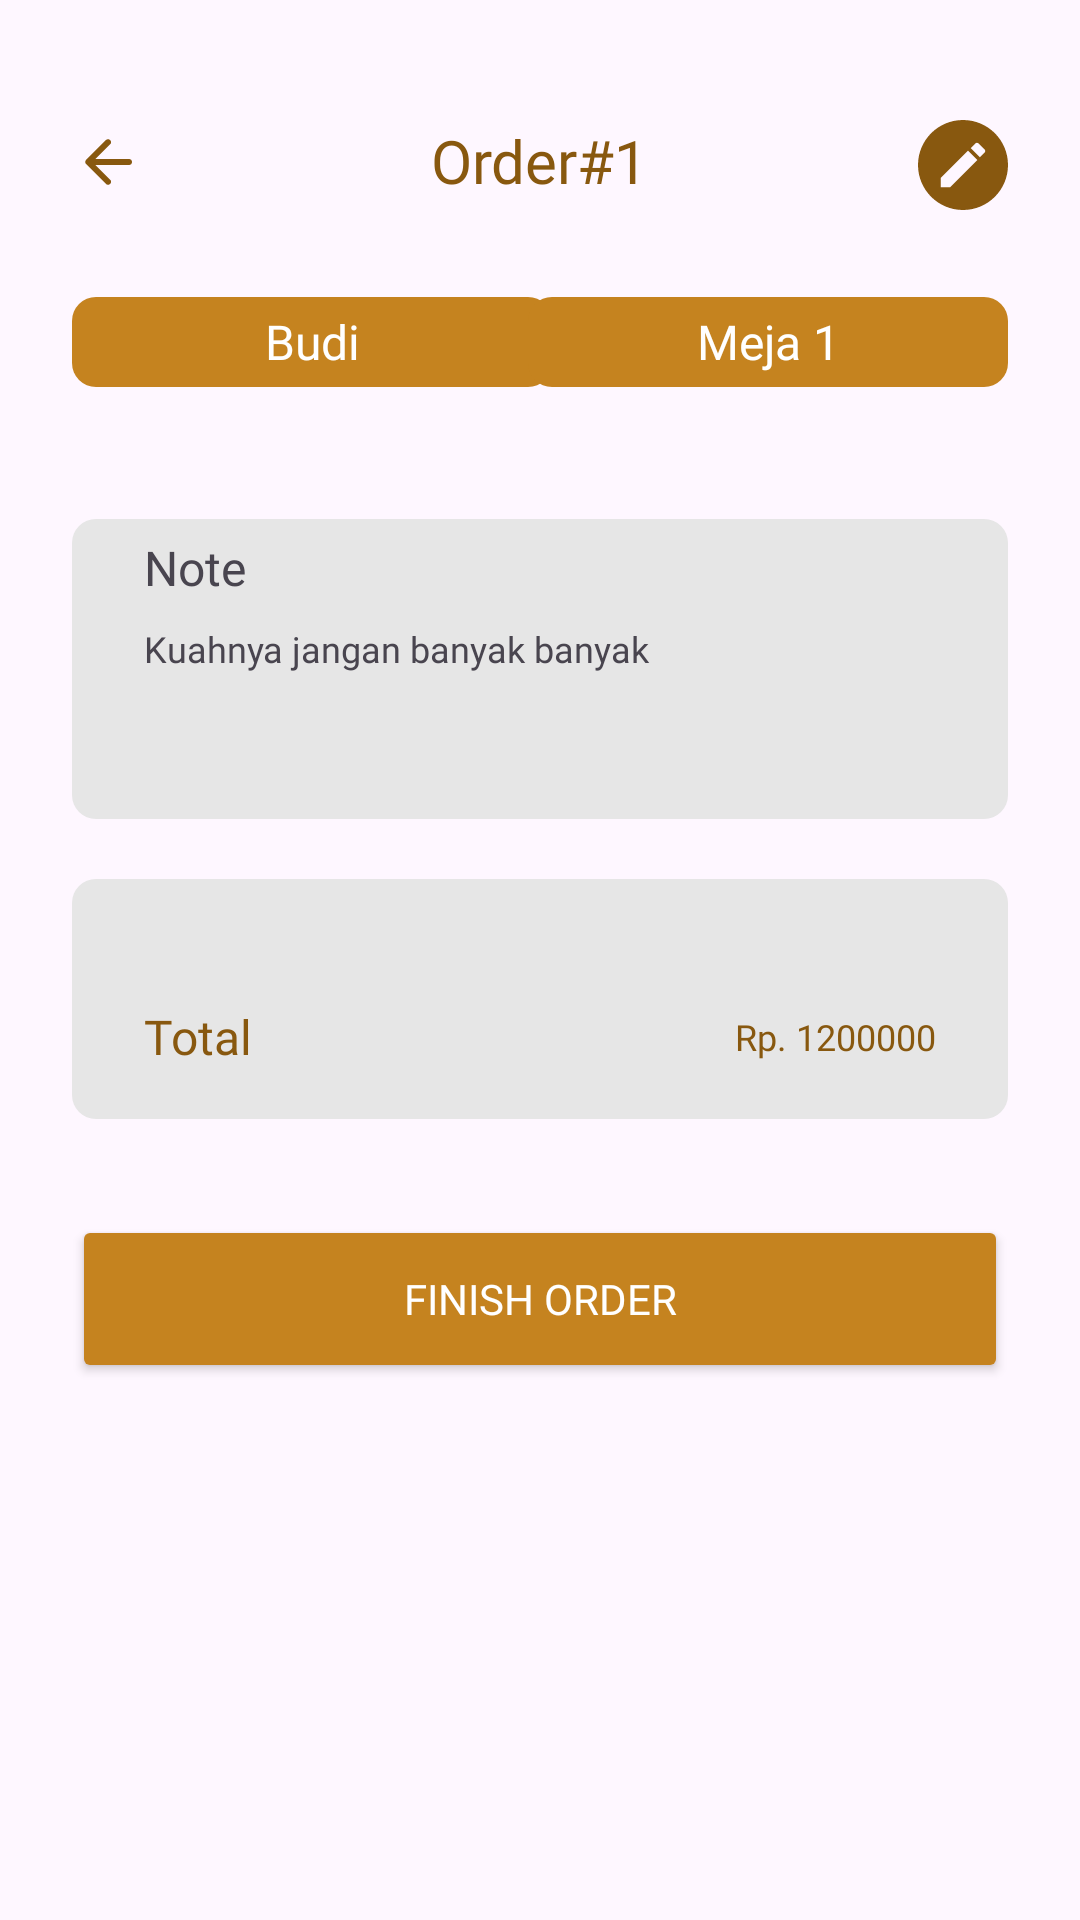

Screen size 1080px×1920px. Icon name, then its center in pixels as point (x, y):
back: point (108, 162)
update: point (963, 165)
